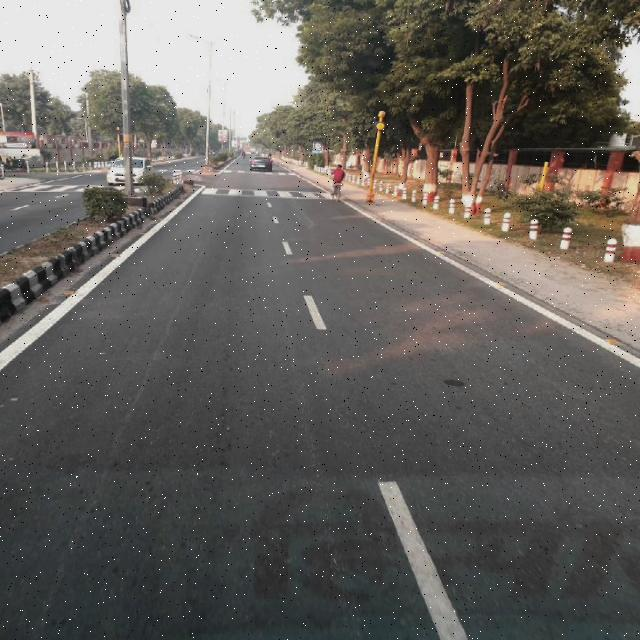D00: (52, 220, 214, 590)
